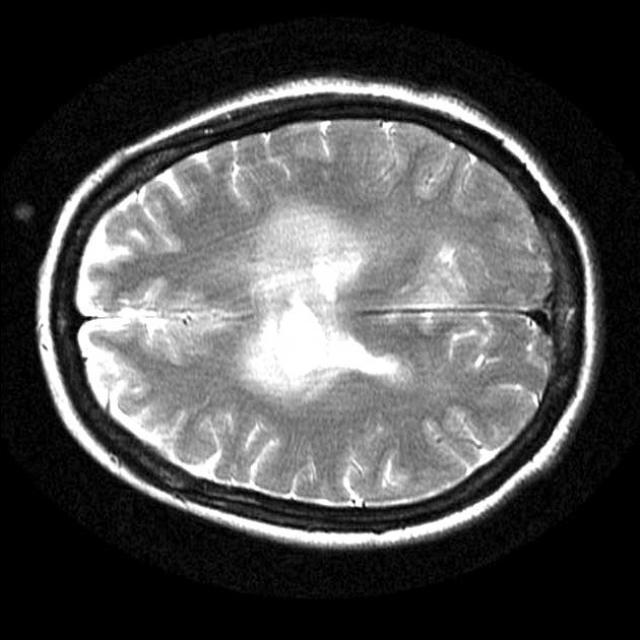tumor: (246, 285, 394, 389)
